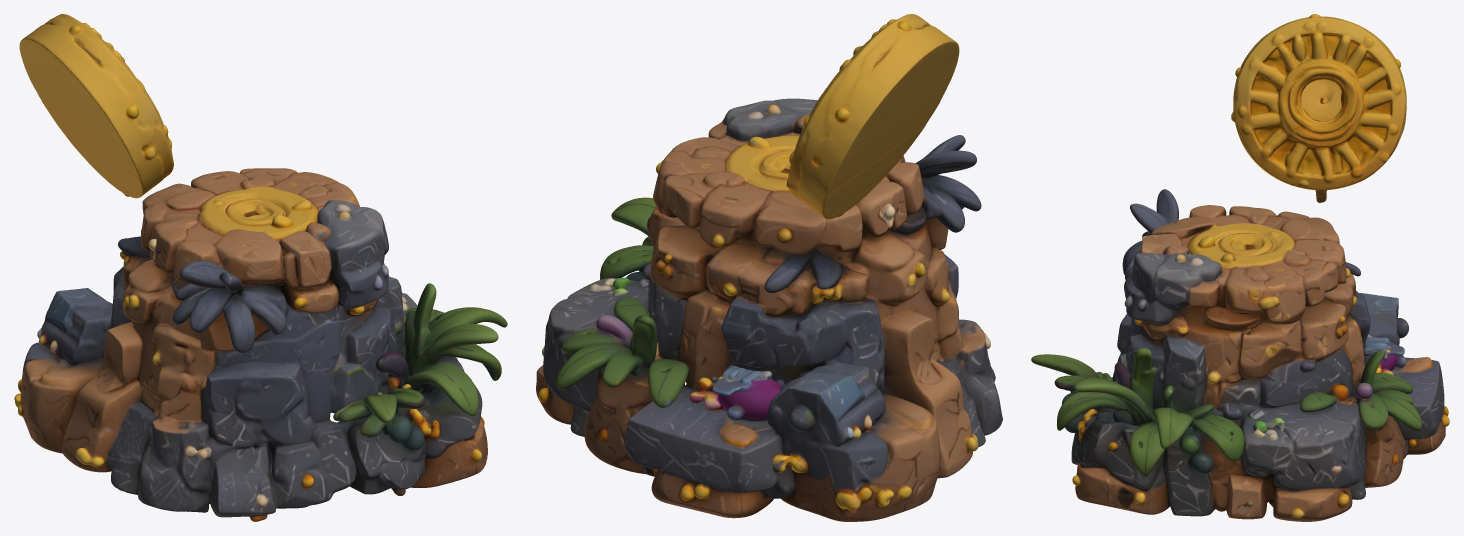
Rendered from coin-2.glb.
3 views of the same model, side by side, from view 1: azimuth 30°, elevation 25°; view 2: azimuth 150°, elevation 25°; view 3: azimuth 270°, elevation 25° (orthographic). The views are drawn at different scales.
Visible parts, largest first — view 1: tripo_node_19c3f425-e42c-431f-a7ad-744c92451a2e; view 2: tripo_node_19c3f425-e42c-431f-a7ad-744c92451a2e; view 3: tripo_node_19c3f425-e42c-431f-a7ad-744c92451a2e.
Boxes of the visible parts, x1,y1,x2,y2 form: tripo_node_19c3f425-e42c-431f-a7ad-744c92451a2e: (14, 14, 507, 521); tripo_node_19c3f425-e42c-431f-a7ad-744c92451a2e: (536, 14, 1002, 521); tripo_node_19c3f425-e42c-431f-a7ad-744c92451a2e: (1031, 14, 1449, 521).
Size of the model in its own units: 0.9371 by 0.9972 by 0.9999.
1 material, 1 textured.
